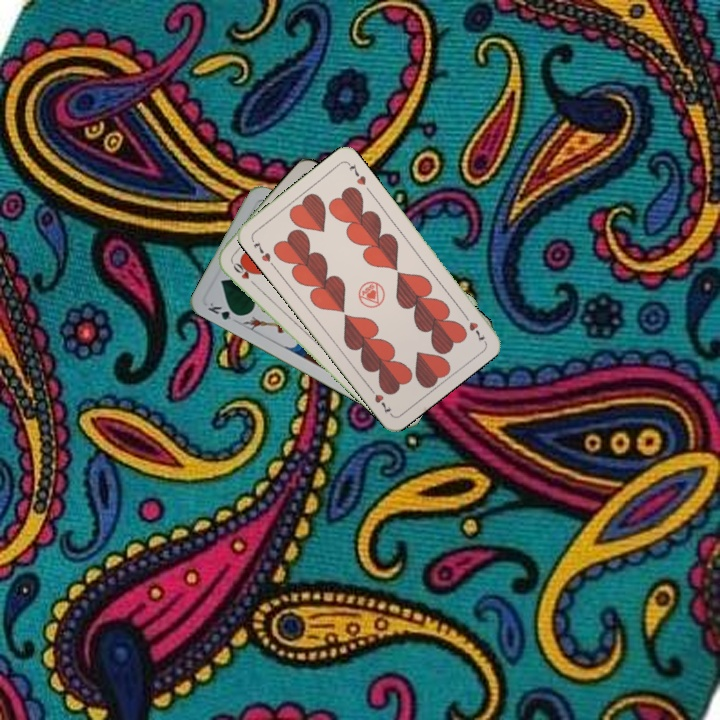GK: (203, 298, 243, 325)
H7: (459, 309, 488, 344), (250, 237, 273, 264)
HO: (227, 258, 260, 290)
